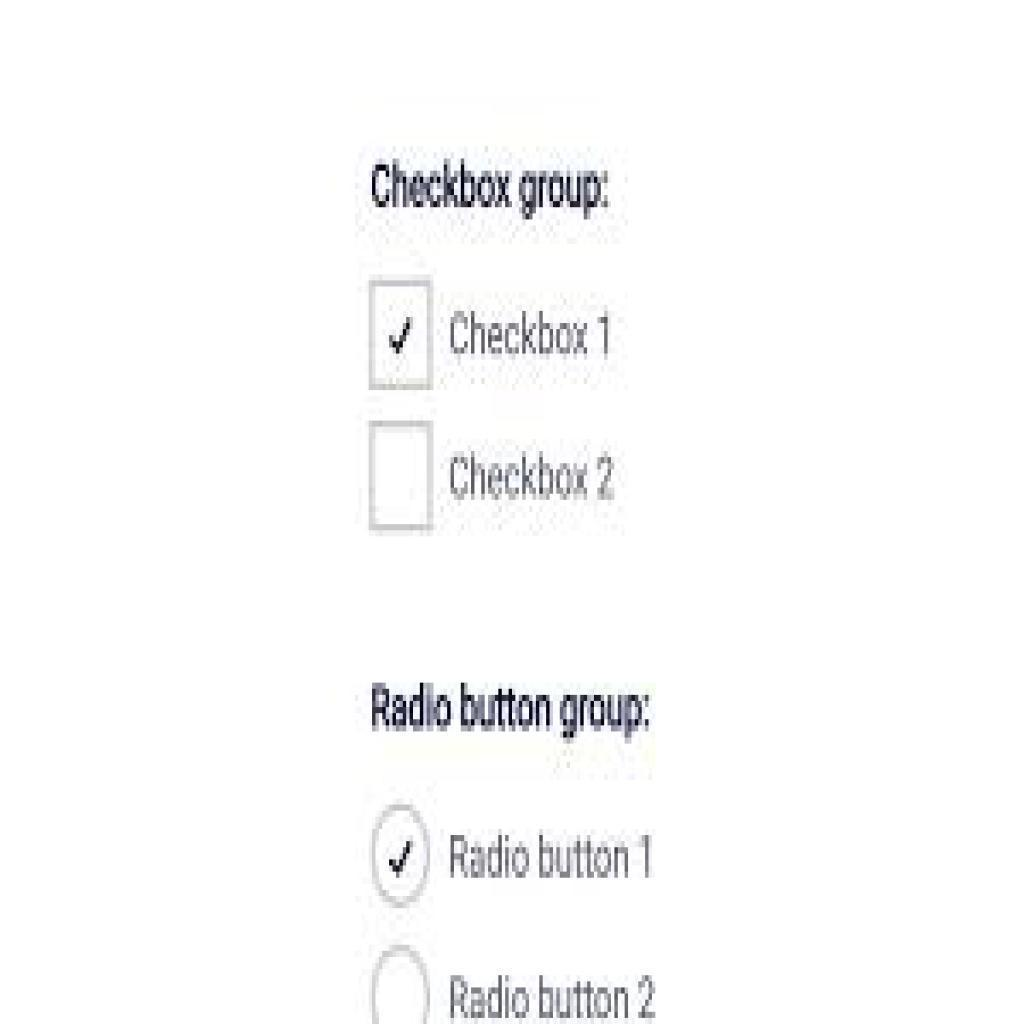checkbox: (368, 282, 435, 389), (370, 421, 431, 531)
radio: (367, 794, 436, 918), (369, 944, 433, 1024)
